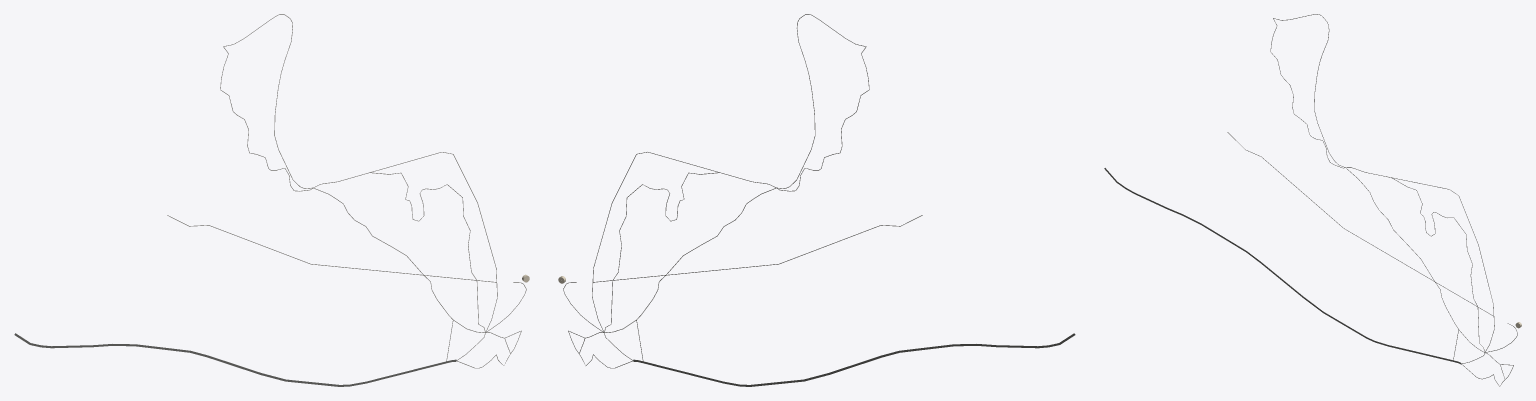
The model's file is historic-palestine-08_03_3496_2976.glb.
3 views of the same model, side by side, from view 1: azimuth 30°, elevation 25°; view 2: azimuth 150°, elevation 25°; view 3: azimuth 330°, elevation 25° (orthographic). The views are drawn at different scales.
Visible parts, largest first — view 1: Road .007; view 2: Road .007; view 3: Road .007.
Boxes of the visible parts, x1,y1,x2,y2 form: Road .007: [14, 333, 446, 386]; Road .007: [643, 333, 1075, 386]; Road .007: [1104, 168, 1453, 361].
Bounding box in the file's own units: 1343 × 1013 × 8.7.
